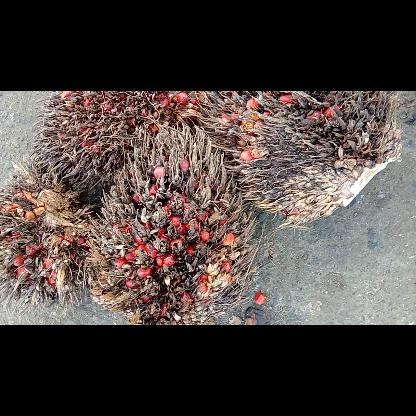Terlalu masak: (85, 118, 262, 324), (192, 90, 406, 228), (27, 91, 209, 215), (0, 153, 108, 319)
